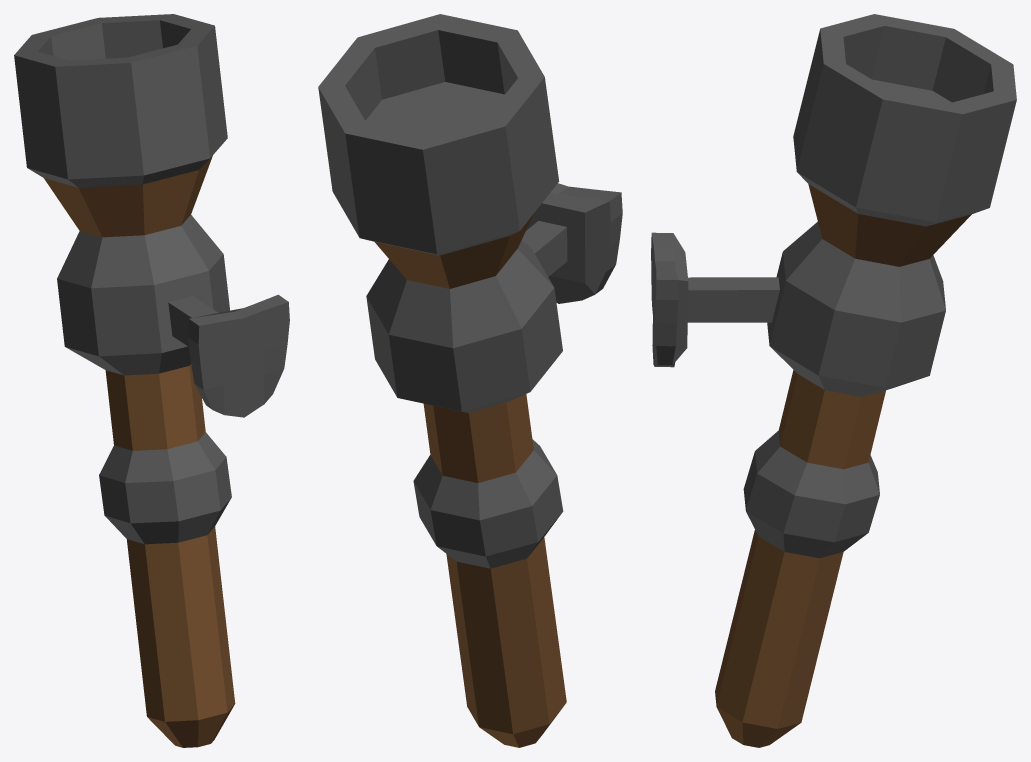
The model's file is FakkelMiddeleeuwen.fbx.
3 views of the same model, side by side, from view 1: azimuth 30°, elevation 25°; view 2: azimuth 150°, elevation 25°; view 3: azimuth 270°, elevation 25° (orthographic). The views are drawn at different scales.
Parts seen in each view (by area): view 1: Cylinder.001; view 2: Cylinder.001; view 3: Cylinder.001.
Part boxes in pixels (x1,y1,x2,y2): Cylinder.001: [14, 14, 289, 747]; Cylinder.001: [318, 14, 622, 747]; Cylinder.001: [651, 14, 1016, 747].
Size of the model in its own units: 427 by 1633 by 775.
